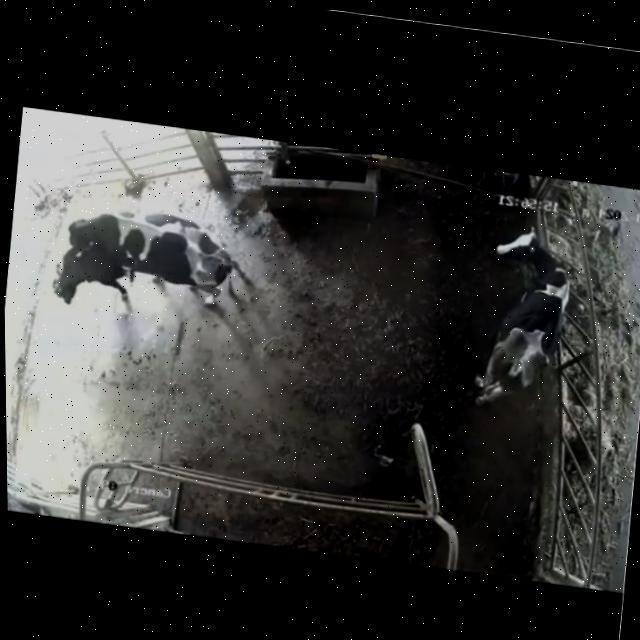ride: (56, 191, 256, 316)
stand: (452, 215, 588, 425), (33, 223, 154, 329)
